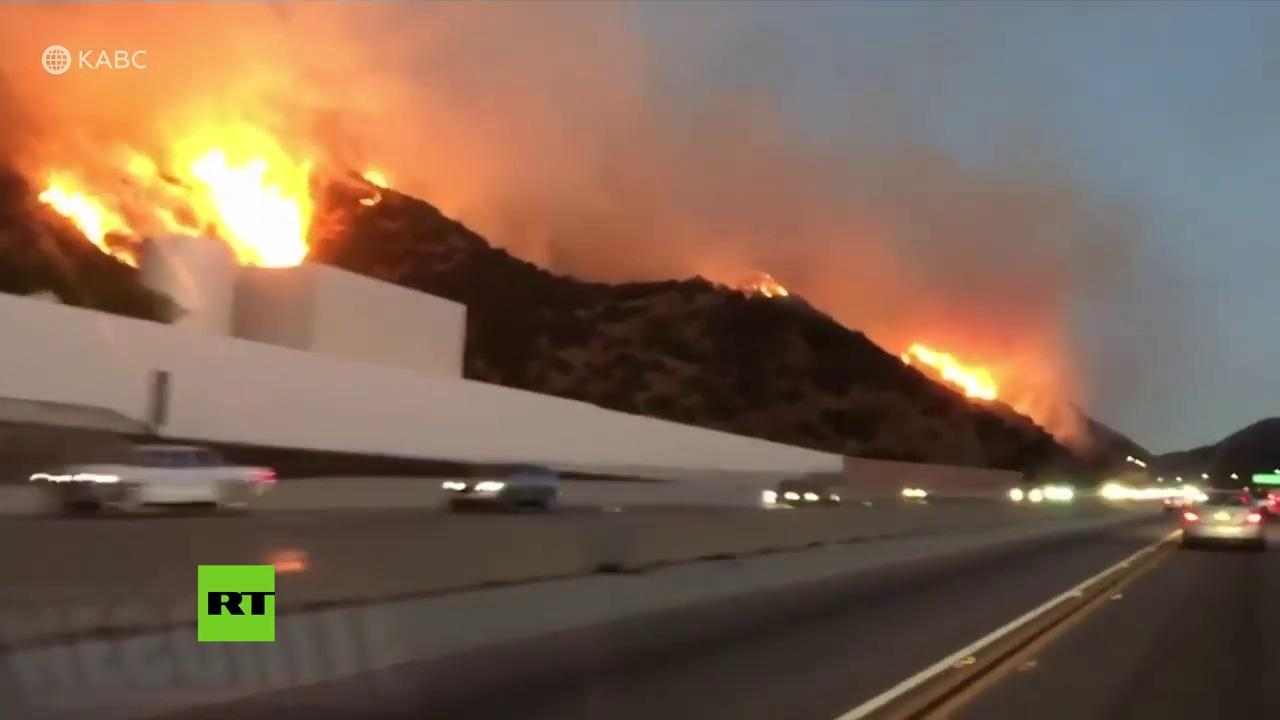fire: (206, 162, 312, 274), (900, 336, 1006, 410), (48, 180, 134, 254)
smoke: (442, 60, 634, 262)
